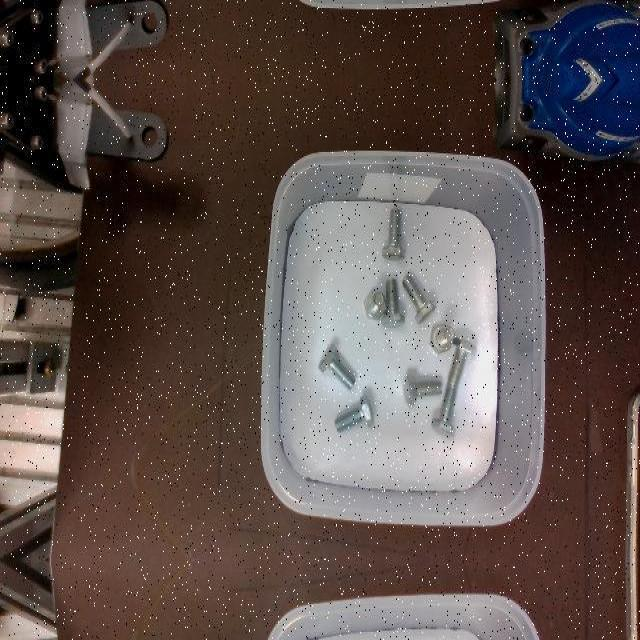screw: (318, 344, 355, 390), (402, 274, 436, 324), (447, 337, 477, 387), (334, 394, 373, 432), (378, 209, 405, 261), (431, 384, 457, 436), (404, 375, 443, 407), (380, 278, 404, 328), (429, 323, 455, 353), (363, 289, 386, 319)
